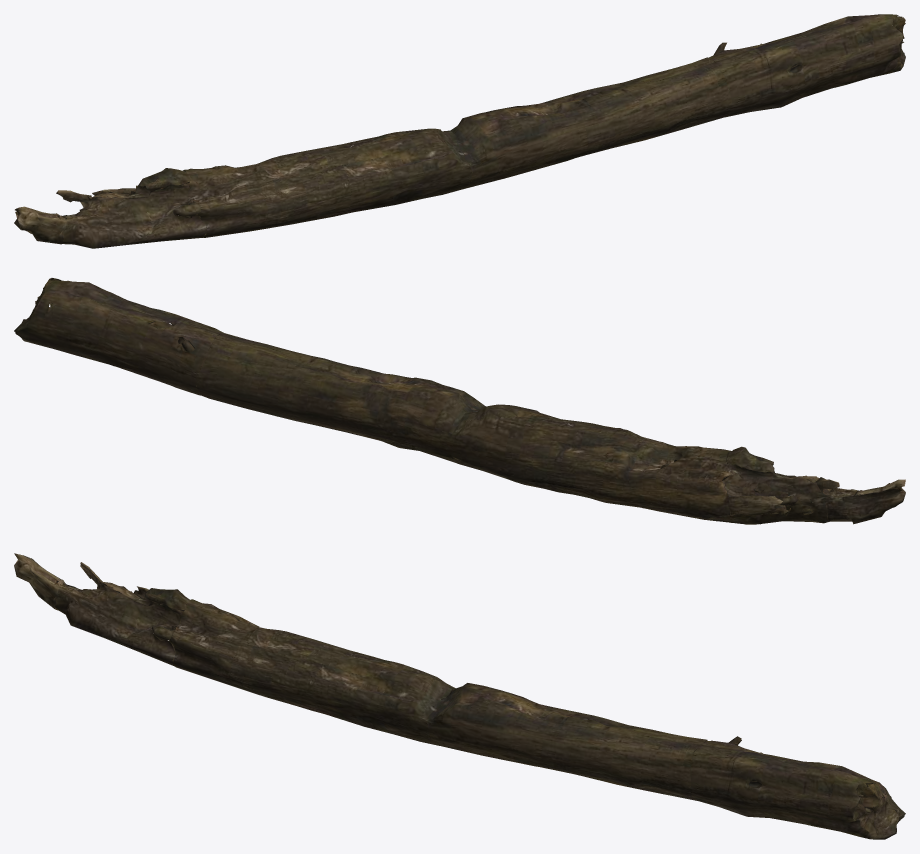
File: log.glb
The picture shows the model from 3 angles, top to bottom: view 1: azimuth 30°, elevation 25°; view 2: azimuth 150°, elevation 25°; view 3: azimuth 330°, elevation 25°; orthographic projection.
Visible parts, largest first — view 1: dead_tree_trunk; view 2: dead_tree_trunk; view 3: dead_tree_trunk.
Part boxes in pixels (box(x1,y1,x2,y2)): dead_tree_trunk: box(14, 14, 905, 248); dead_tree_trunk: box(14, 278, 905, 524); dead_tree_trunk: box(14, 553, 905, 839).
Size of the model in its own units: 3.05 by 0.2898 by 0.2746.
Materials: 1 (1 with a texture image).
